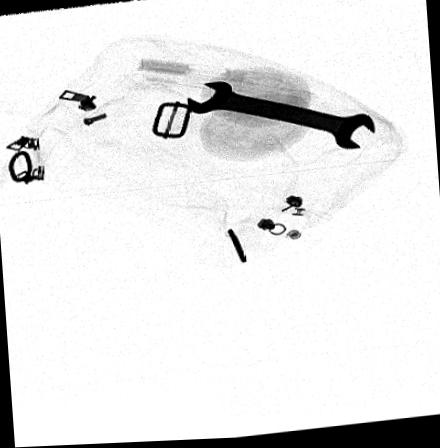Wrench: (186, 81, 377, 154)
